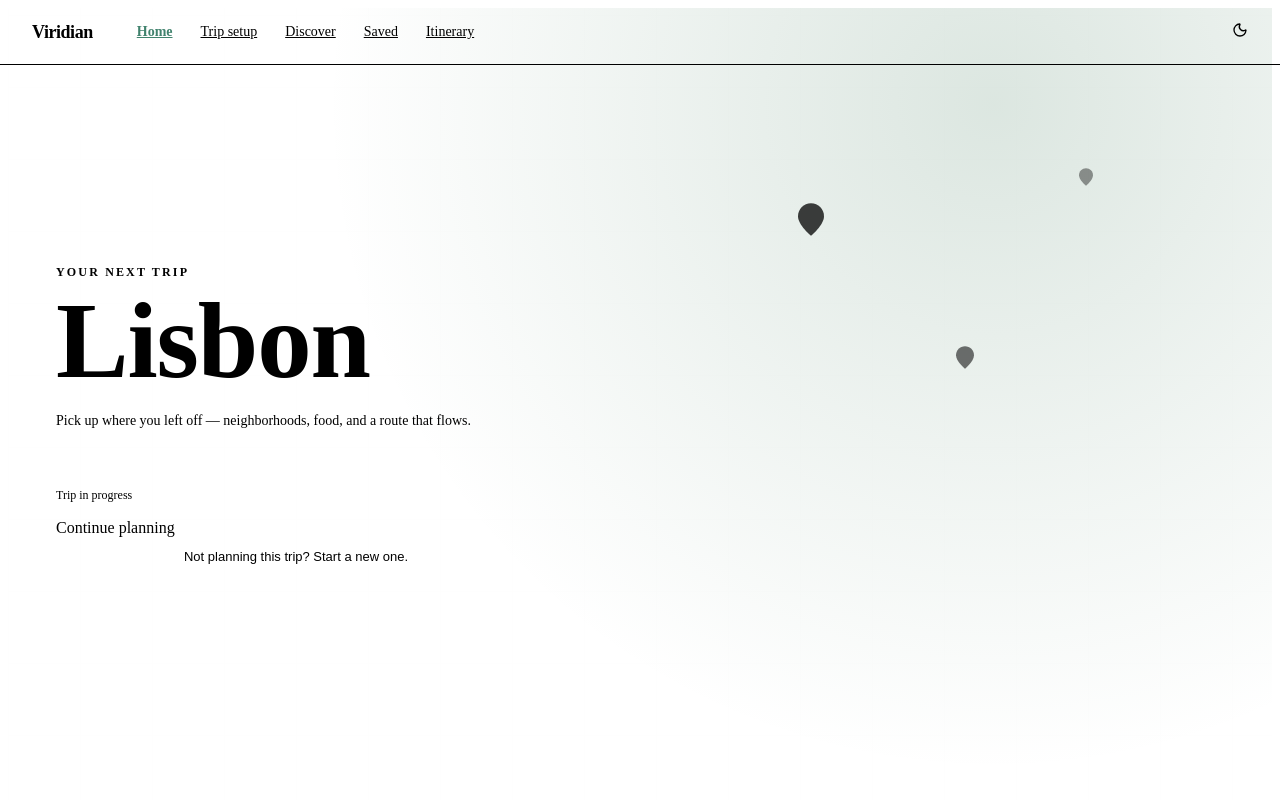
Test: Home › hasTrip: 'Not planning this trip?' clears the active-trip id and swaps to the noTrip state without a full navigation (U1)
Expected: the heading "Lisbon" is shown, [56,280,370,401]
Click the button "Not planning this trip? Start a new one." at (296, 557), box [56,549,536,564]
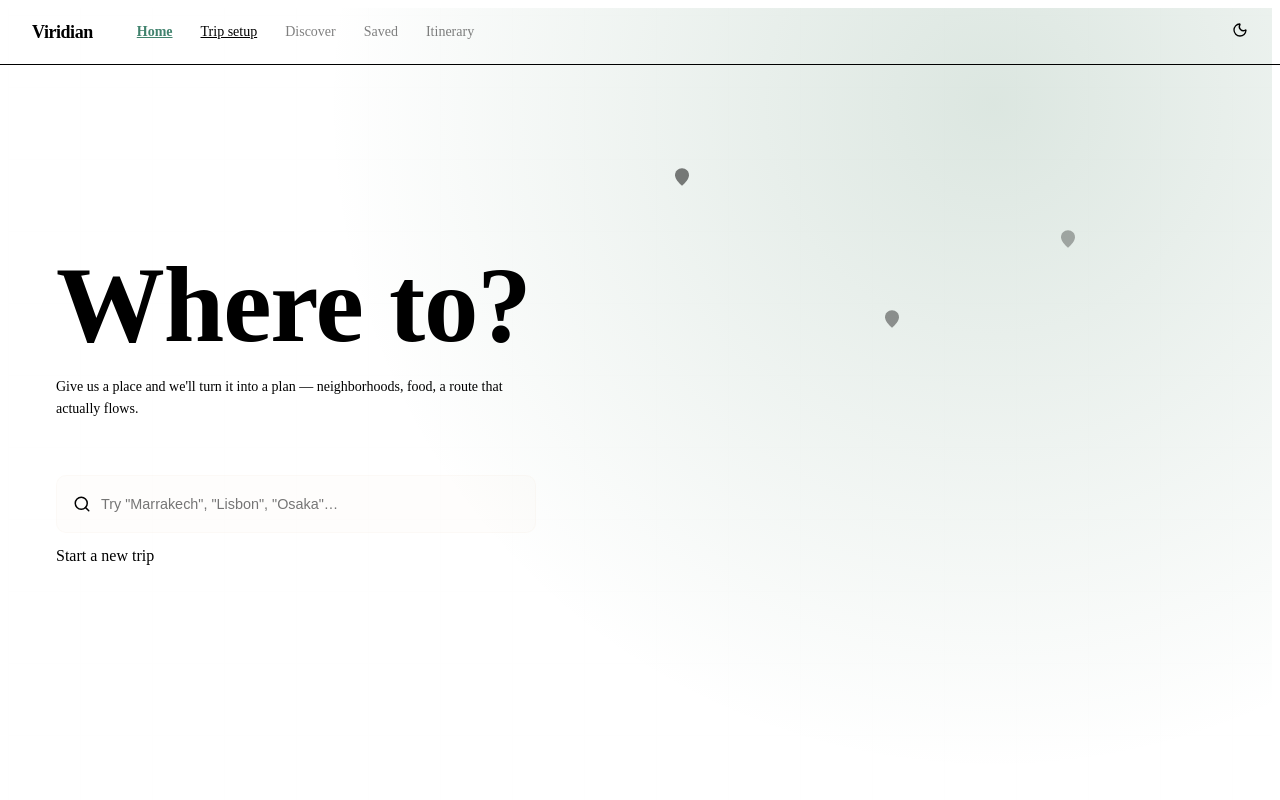
Now the heading "Where to?" is shown, box [56,244,531,365]
